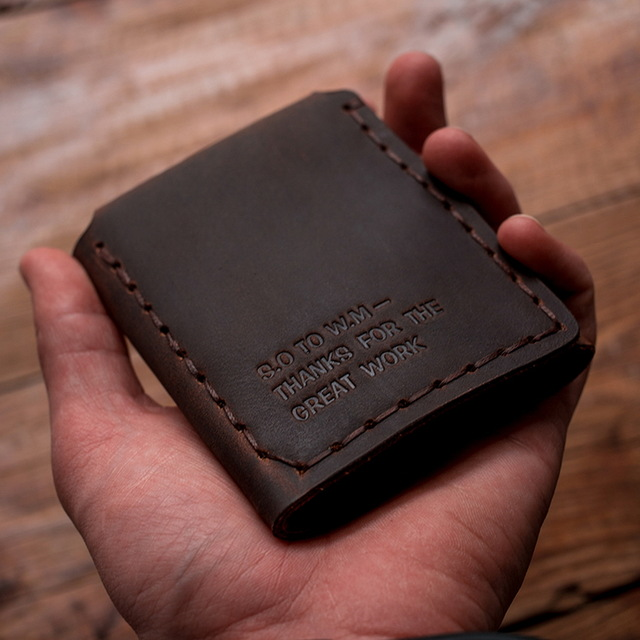monedero: (69, 88, 598, 549)
